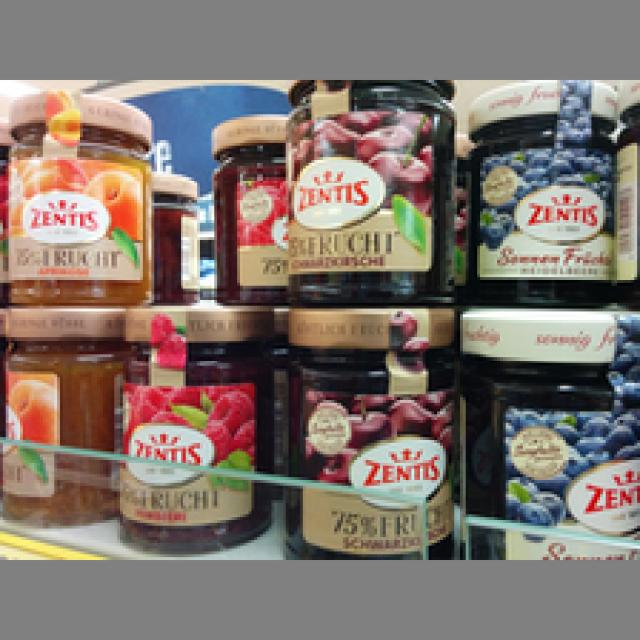groceries: (454, 303, 637, 554), (283, 303, 454, 557), (111, 300, 272, 551), (457, 77, 626, 306), (283, 77, 454, 303), (0, 88, 151, 300), (0, 303, 117, 526), (208, 109, 286, 300)
